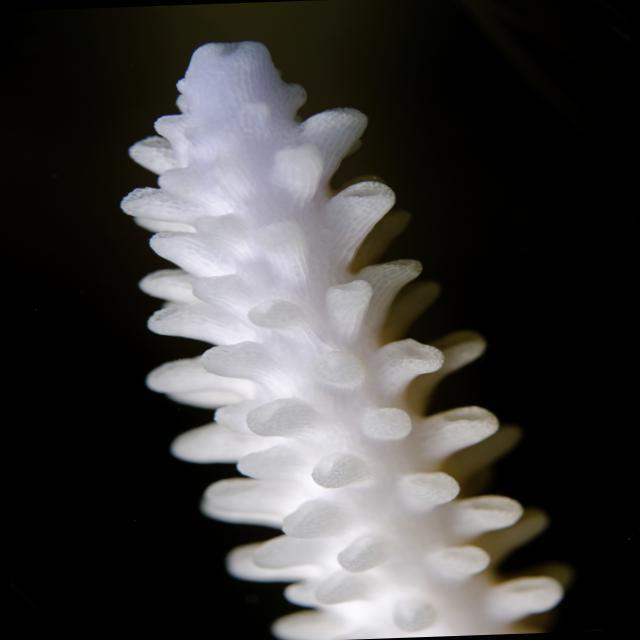Bleached Coral: (66, 21, 577, 640)
